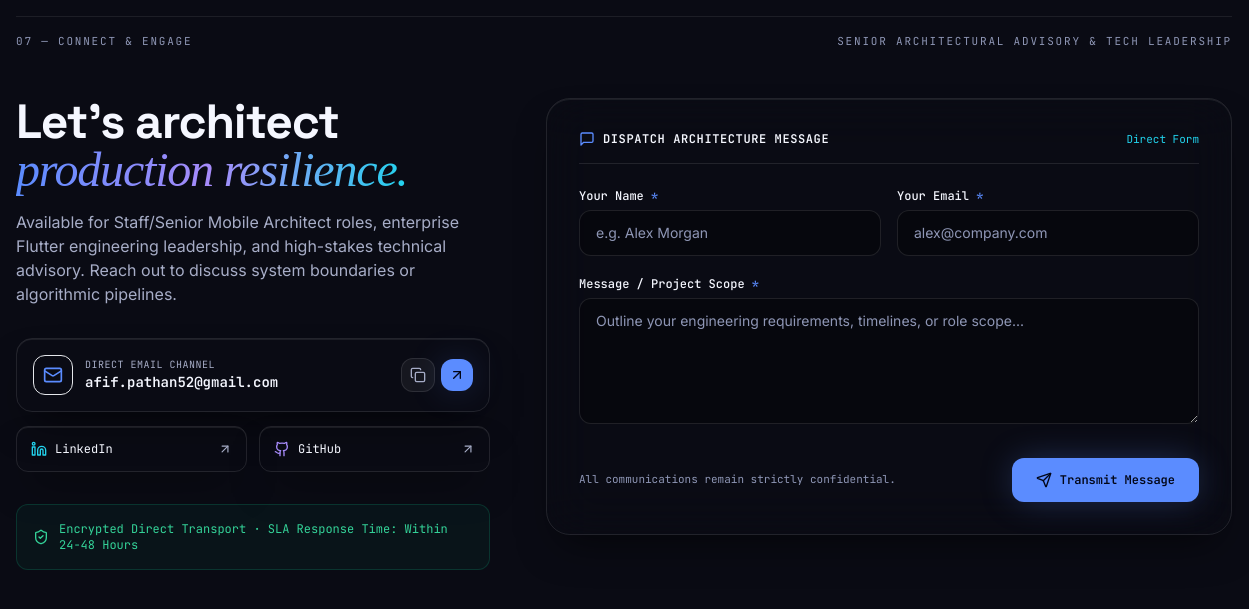
Contact Section & Form Validation › validates minimum name length (< 2 characters)
The width and height of the screenshot is (1249, 609).
Click the button "Transmit Message" at (1105, 480), box left=1012, top=458, right=1199, bottom=502
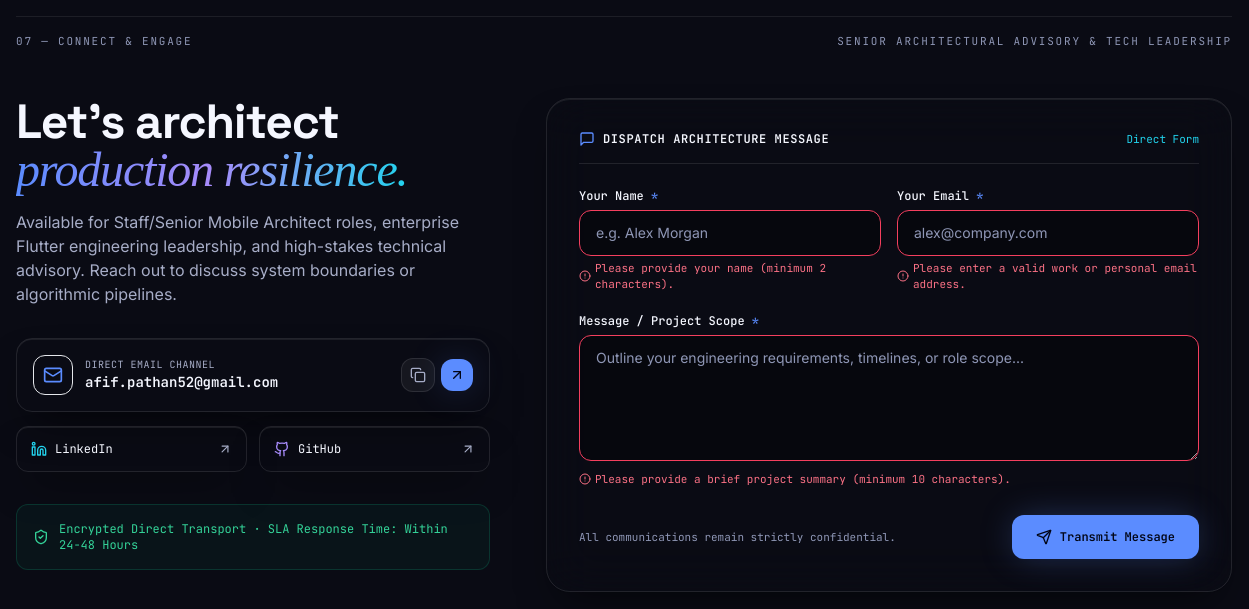
Expected: the text "Please provide your name (minimum 2 characters)." is shown, left=595, top=260, right=826, bottom=291
